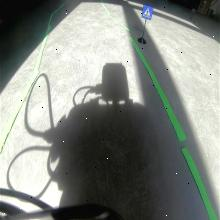crosswalk: (142, 4, 153, 21)
